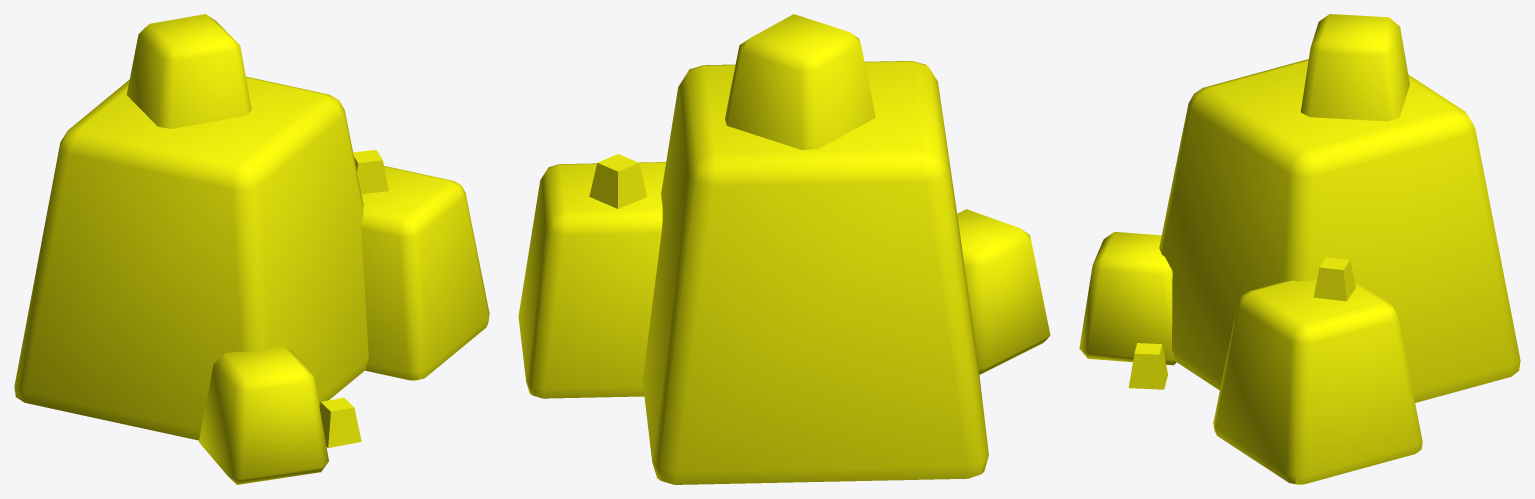
The model's file is kaykit-rock-2-h-color-1.glb.
3 views of the same model, side by side, from view 1: azimuth 30°, elevation 25°; view 2: azimuth 150°, elevation 25°; view 3: azimuth 270°, elevation 25° (orthographic). The views are drawn at different scales.
Parts seen in each view (by area): view 1: Rock_2_H_Color1; view 2: Rock_2_H_Color1; view 3: Rock_2_H_Color1.
Boxes of the visible parts, x1,y1,x2,y2 form: Rock_2_H_Color1: [14, 14, 489, 484]; Rock_2_H_Color1: [518, 14, 1050, 484]; Rock_2_H_Color1: [1079, 14, 1520, 484].
Size of the model in its own units: 3.7 by 2.76 by 3.31.
